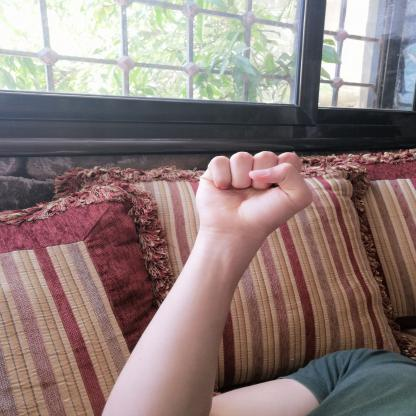SAD: (181, 142, 328, 248)
